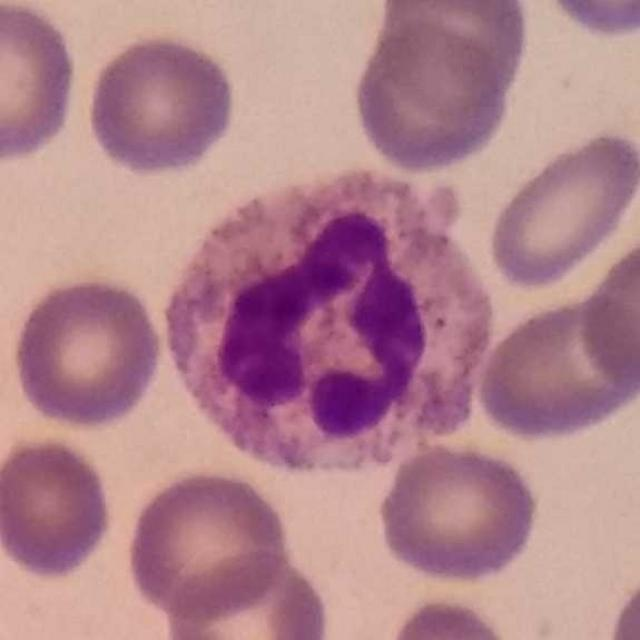Neutrophil: (173, 174, 490, 488)
RBC: (175, 179, 462, 481), (347, 19, 520, 177), (121, 465, 293, 620), (483, 124, 640, 292), (473, 289, 639, 444), (8, 272, 167, 433), (373, 438, 544, 586), (82, 30, 240, 179), (0, 432, 118, 582), (372, 0, 534, 108), (161, 552, 334, 640), (0, 1, 82, 167), (576, 224, 640, 393), (382, 591, 522, 640), (538, 0, 640, 42), (603, 561, 640, 640)
